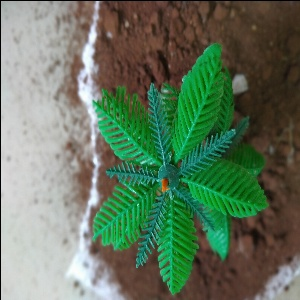plant: (91, 74, 250, 264)
